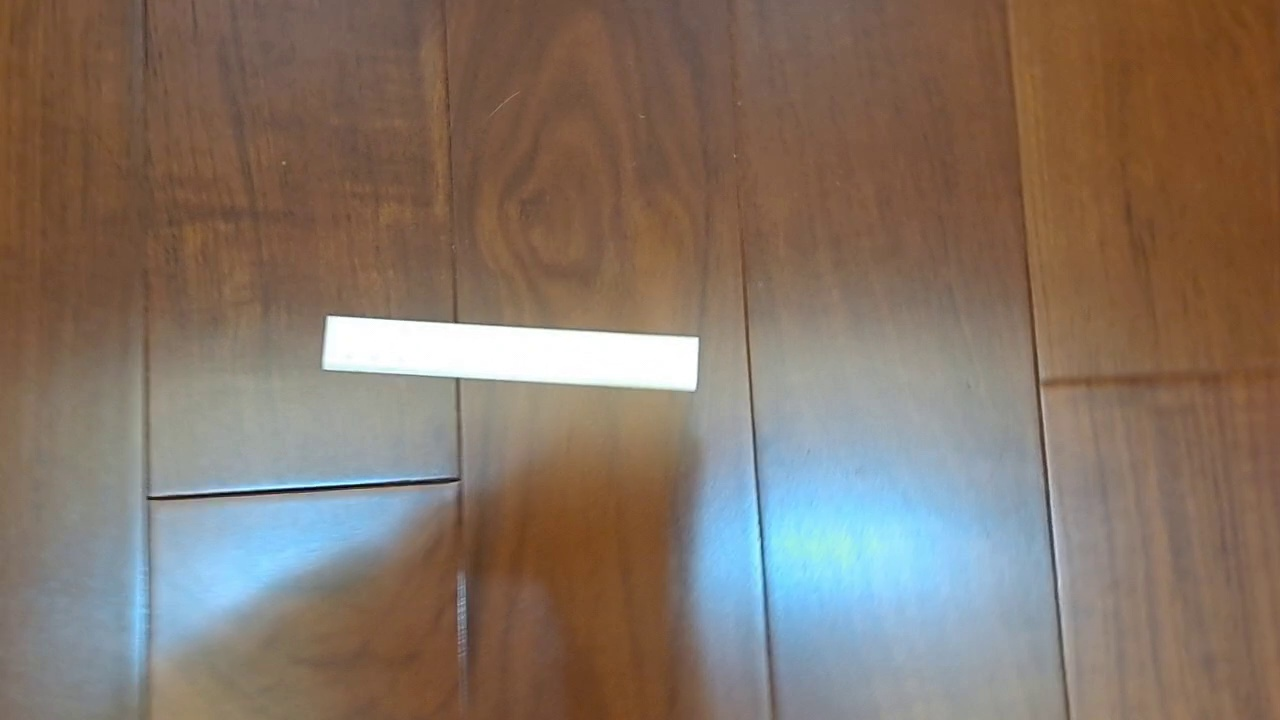ruler: (320, 314, 700, 393)
